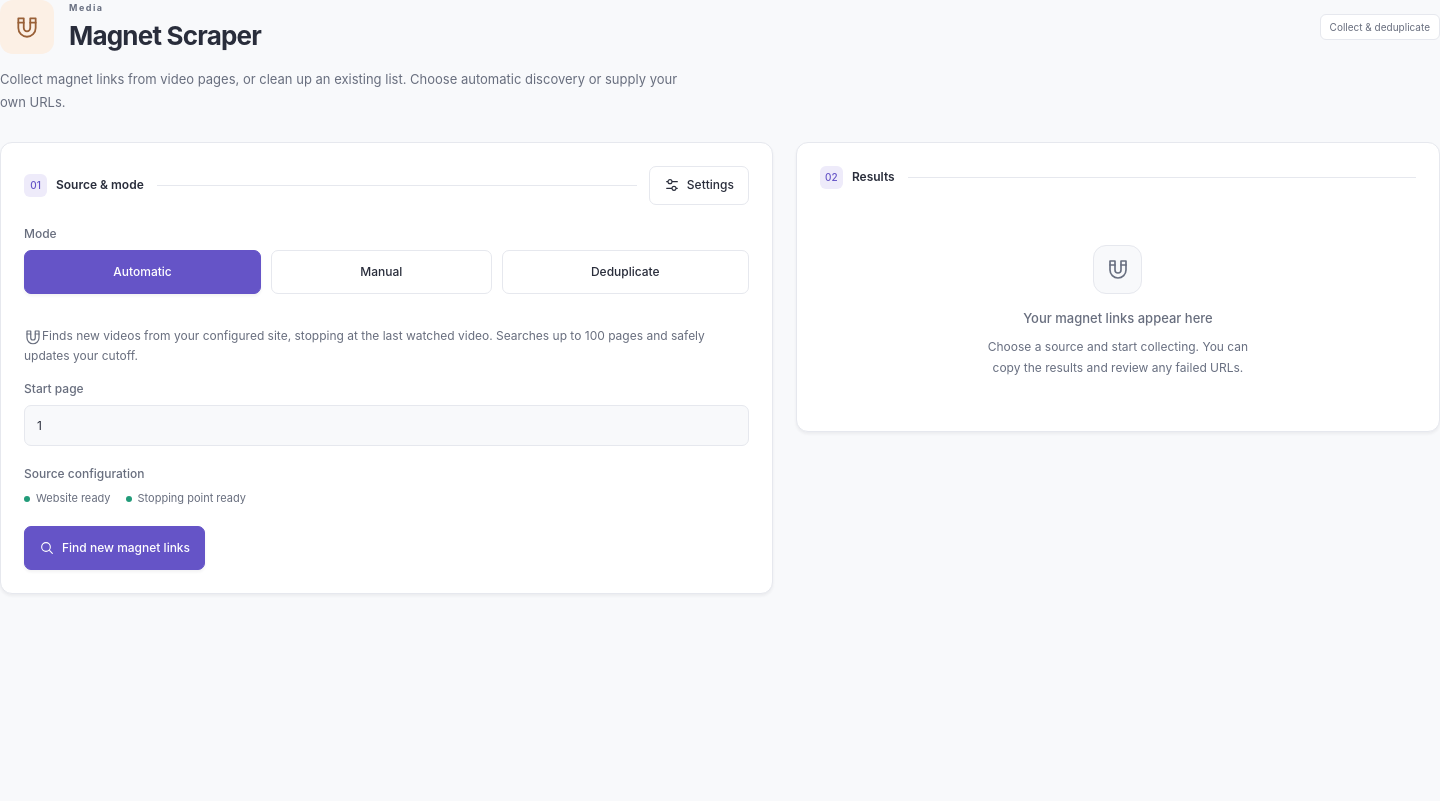
it: keeps edits after a failed save and prevents concurrent saves or automatic runs
Check: the button "Find new magnet links" is enabled, box [24, 526, 205, 570]
Step 1. Click the button "Settings" → (699, 185), box [649, 166, 749, 205]
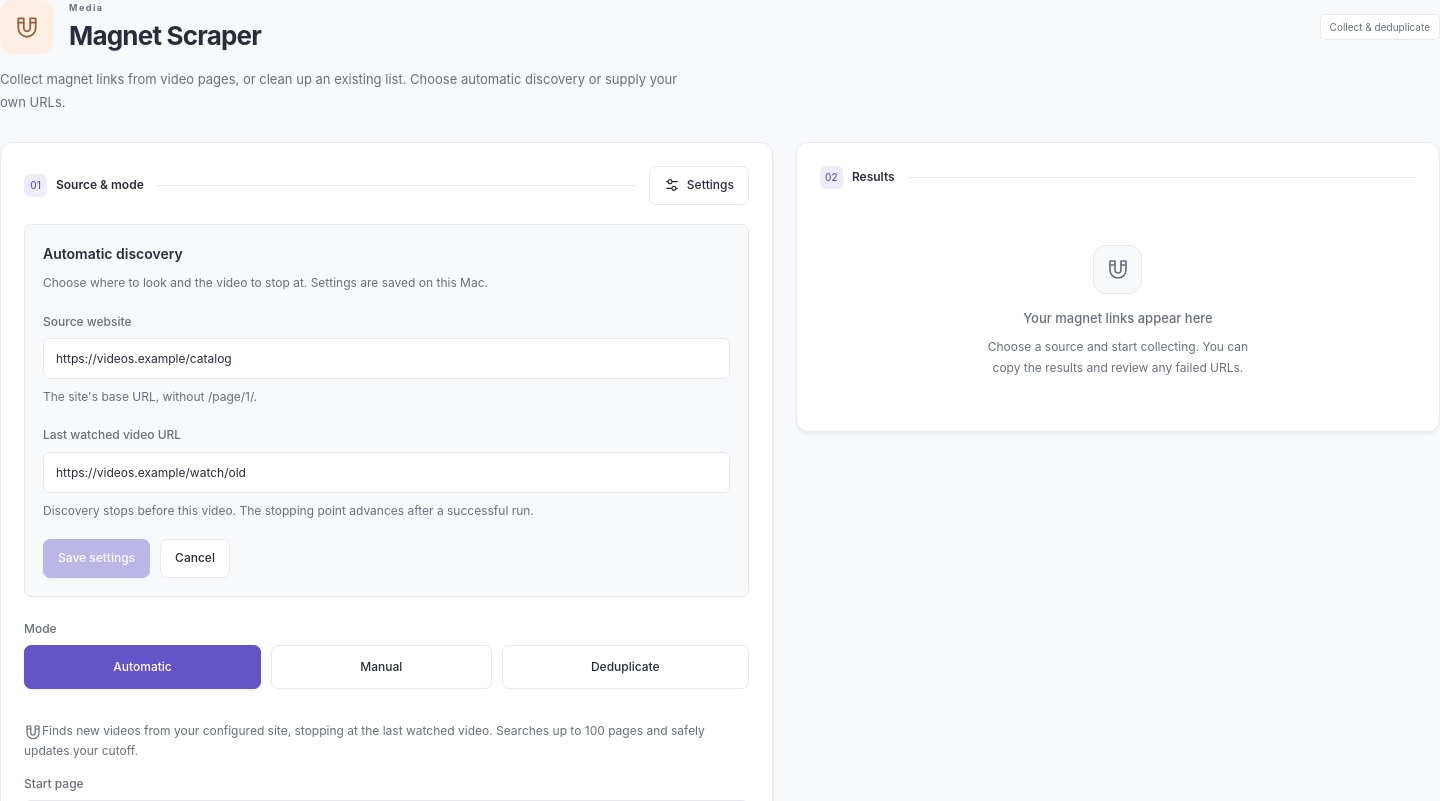
Step 2. Replace the text in the field labelled "Last watched video URL" with "https://videos.example/watch/new" → (386, 472), box [43, 452, 730, 493]
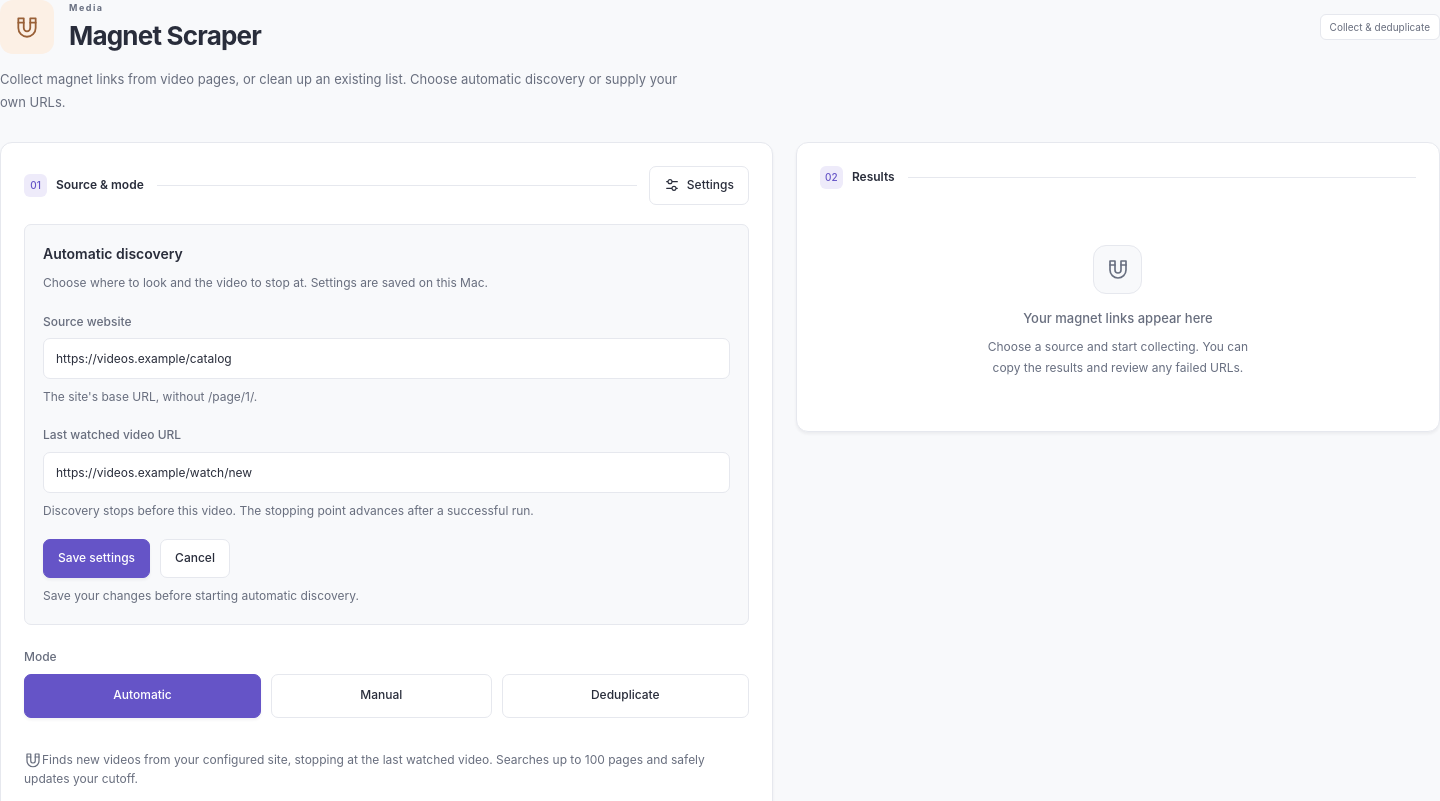
Step 3. Click the button "Save settings" → (97, 559), box [43, 539, 150, 578]
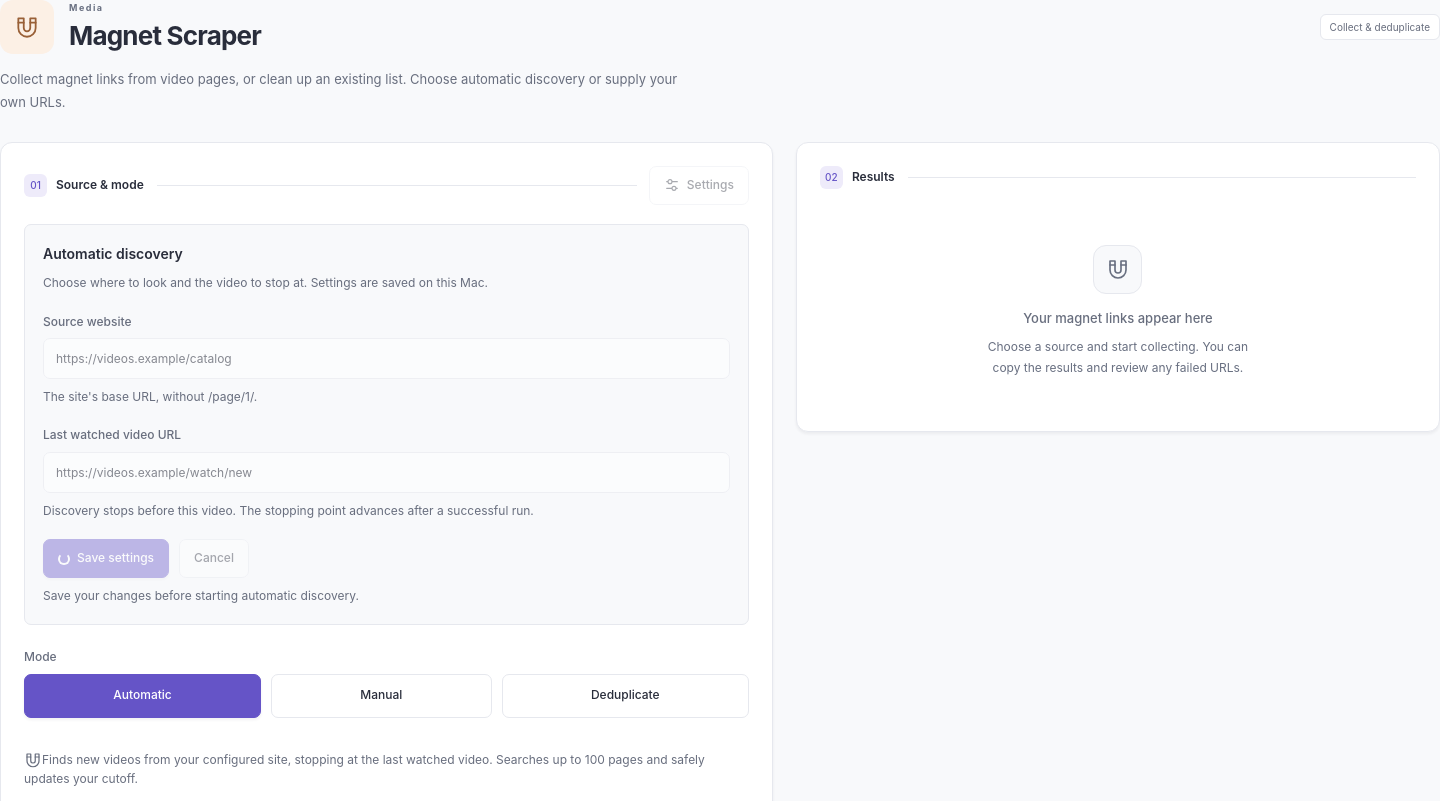
Check: the field labelled "Source website" is disabled, box [43, 338, 730, 379]
Check: the field labelled "Last watched video URL" is disabled, box [43, 452, 730, 493]
Check: the button "Save settings" is disabled
Step 4. Click the button "Save settings" → (106, 559), box [43, 539, 169, 578]
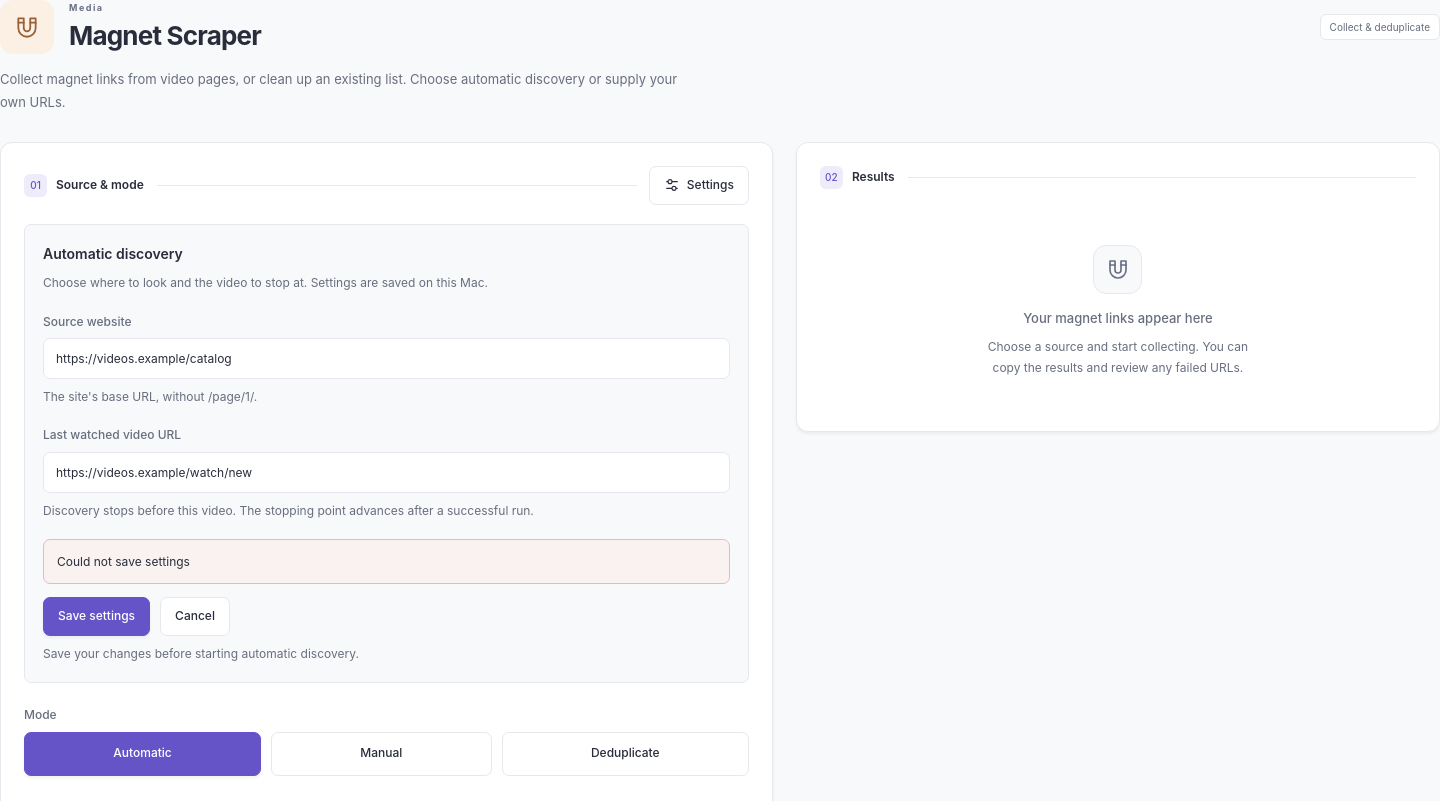
Check: the message reads "Could not save settings", box [57, 554, 190, 569]
Check: the field labelled "Source website" is enabled, box [43, 338, 730, 379]
Step 5. Click the button "Save settings" → (97, 617), box [43, 597, 150, 636]
(page scrolled)
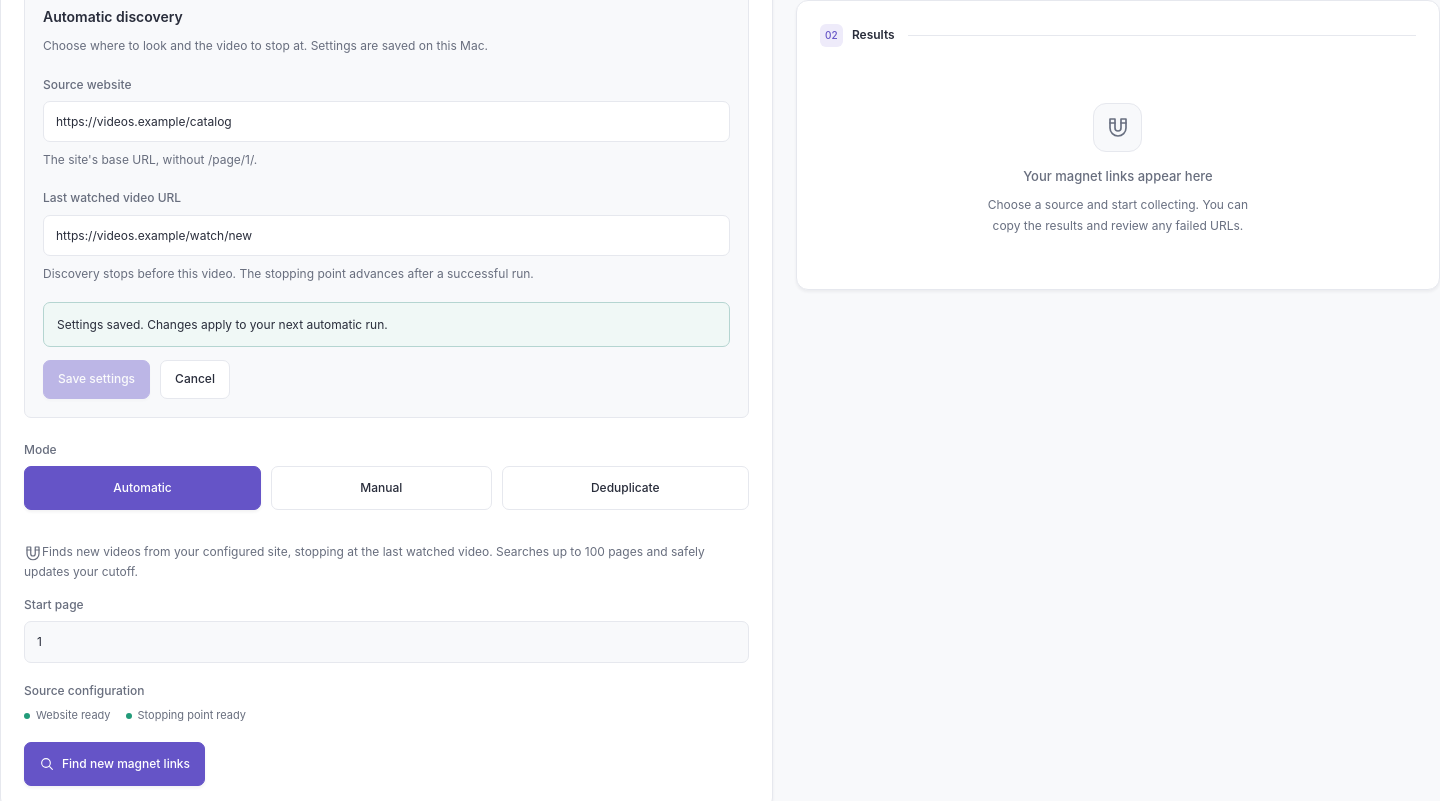
Check: the message "Settings saved. Changes apply to your next automatic run." is shown, box [43, 302, 730, 347]
Check: the button "Find new magnet links" is enabled, box [24, 742, 205, 786]
